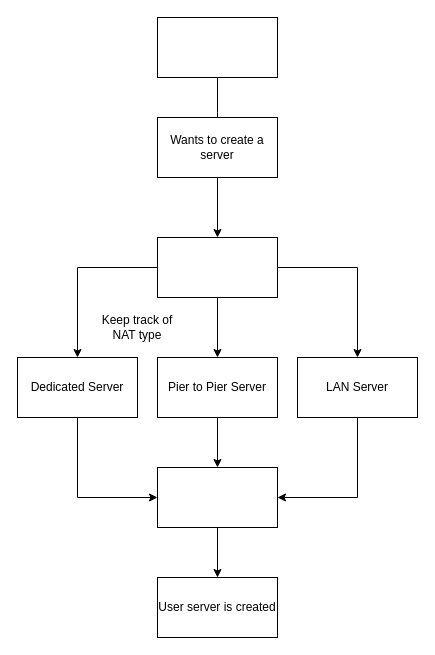
This 435x655 diagram has some shape labels left out. Here are the shapes that lost their labels. From the top down, the centre of each, then its label:
At point (217, 47): "User goes to online server selection".
At point (217, 267): "Server mode select".
At point (217, 497): "User sets up paramaters for the server".
